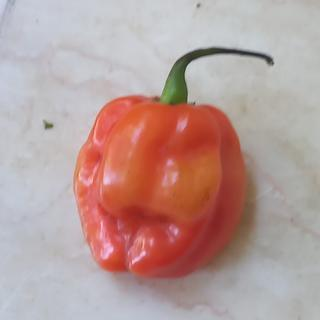Grade-A: (68, 86, 251, 279)
